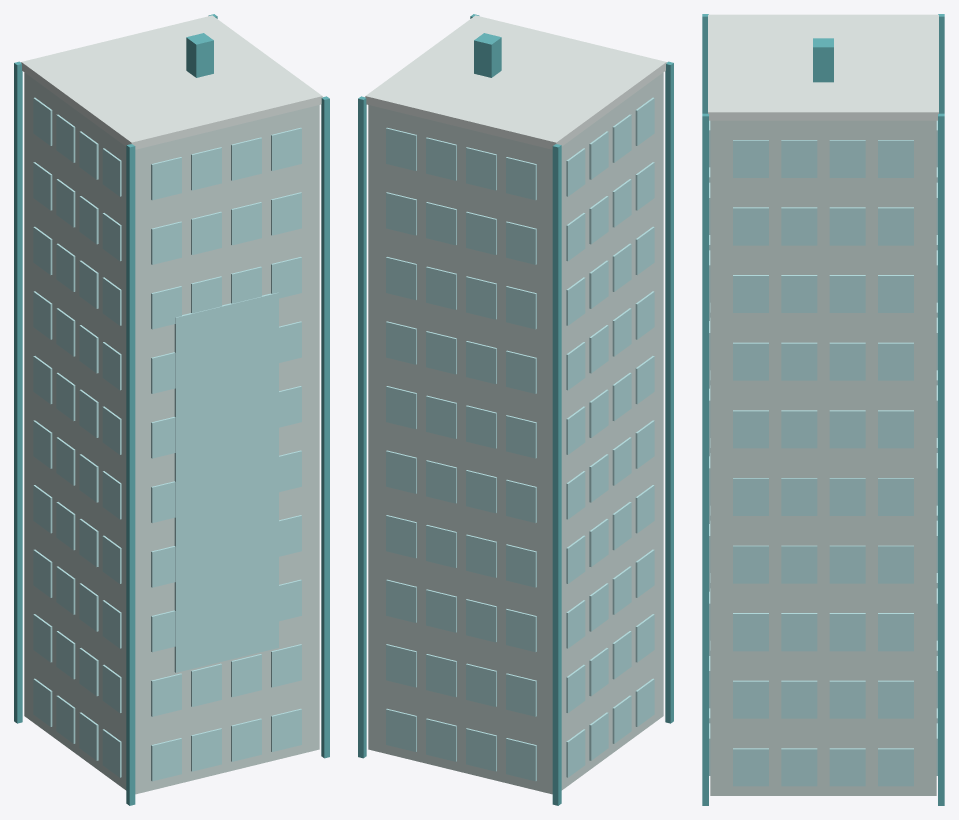
The model's file is tower_b.glb.
3 views of the same model, side by side, from view 1: azimuth 30°, elevation 25°; view 2: azimuth 150°, elevation 25°; view 3: azimuth 270°, elevation 25° (orthographic). The views are drawn at different scales.
Size of the model in its own units: 9.09 by 30.08 by 9.09.
